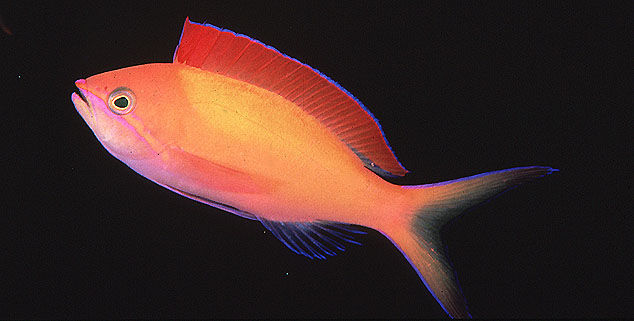fish: (71, 16, 560, 321)
